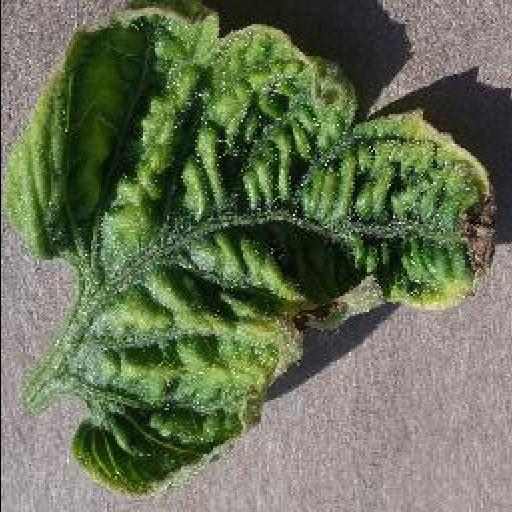disease_tomato: (14, 8, 500, 490)
